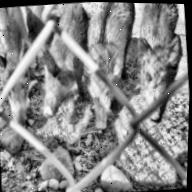boar: (78, 2, 139, 146), (128, 3, 190, 123), (29, 2, 89, 116), (0, 5, 40, 127)
